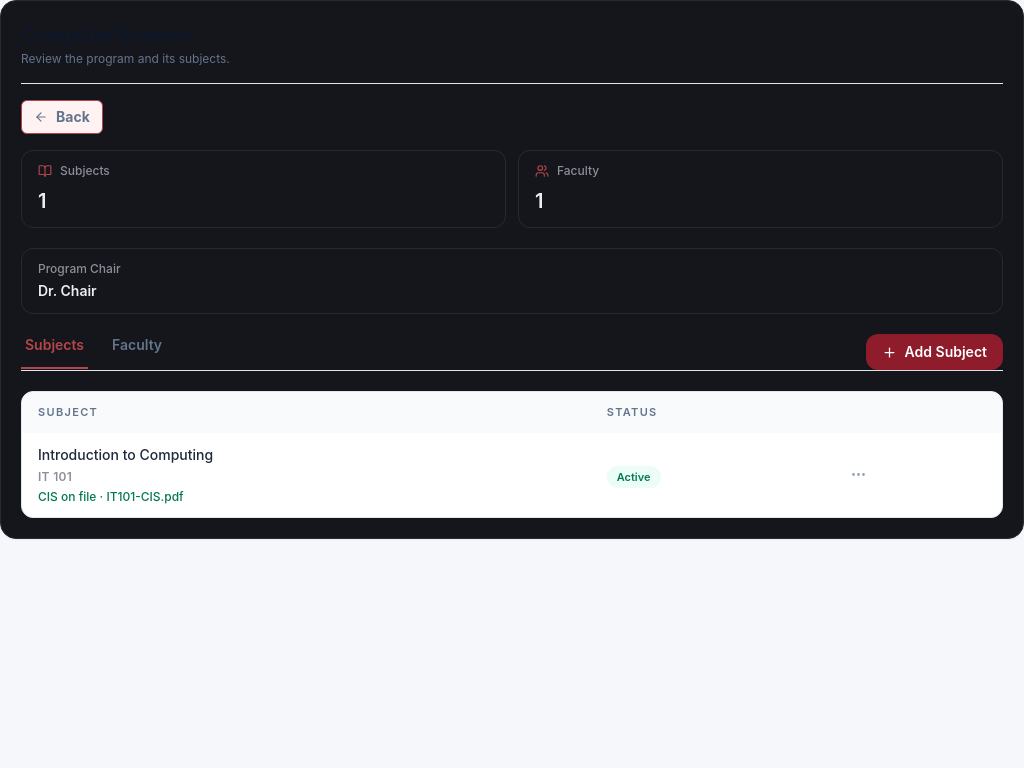
Test case: Department Admin can click an XLSX CIS filename to preview its original worksheet
Click the button named "More actions". click: (858, 474)
box: [842,458,874,490]
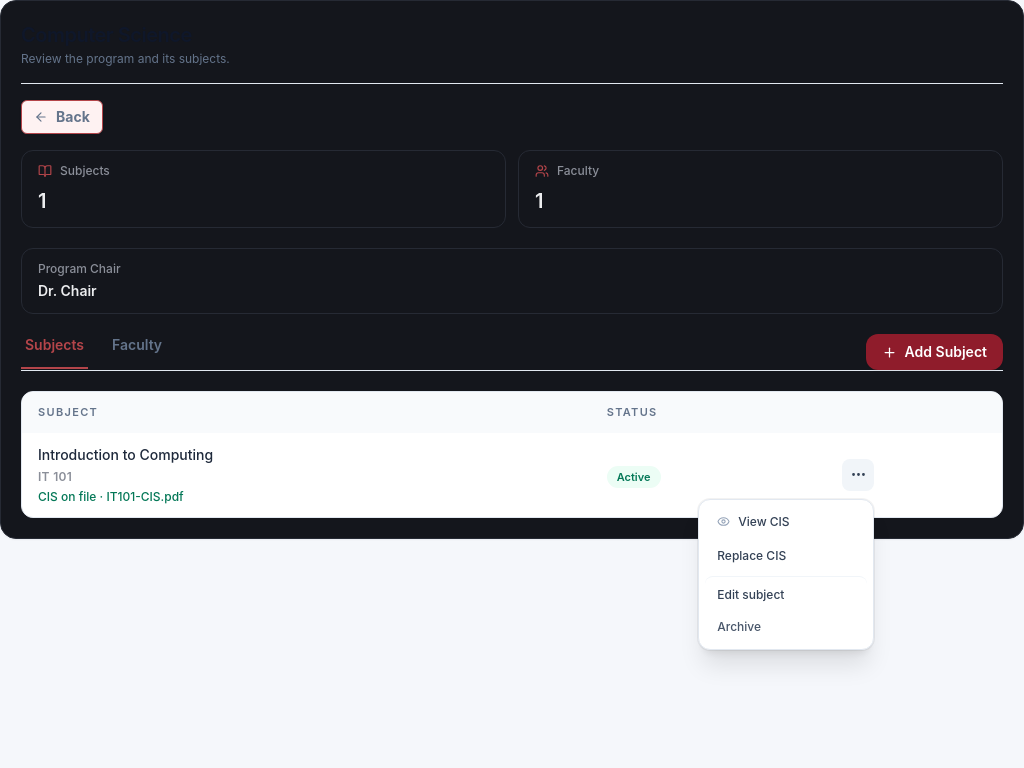
Click the menu item "View CIS". click: (786, 522)
box: [705,506,867,538]
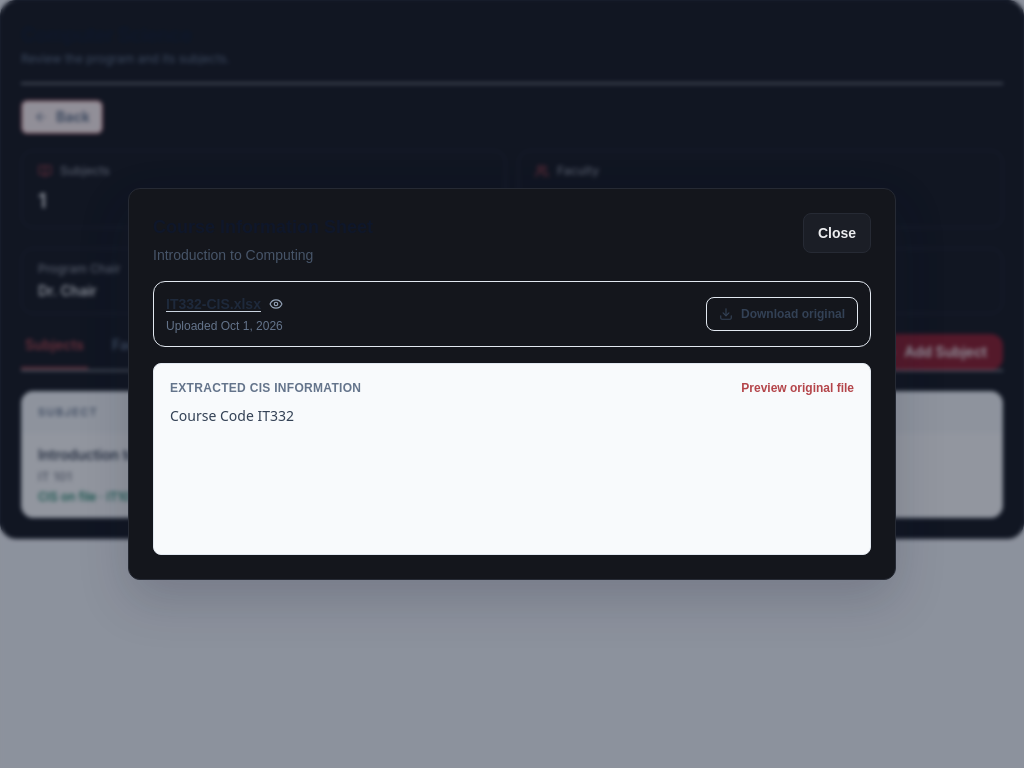
Click the button "IT332-CIS.xlsx". click: (224, 304)
box: [166,294,283,314]
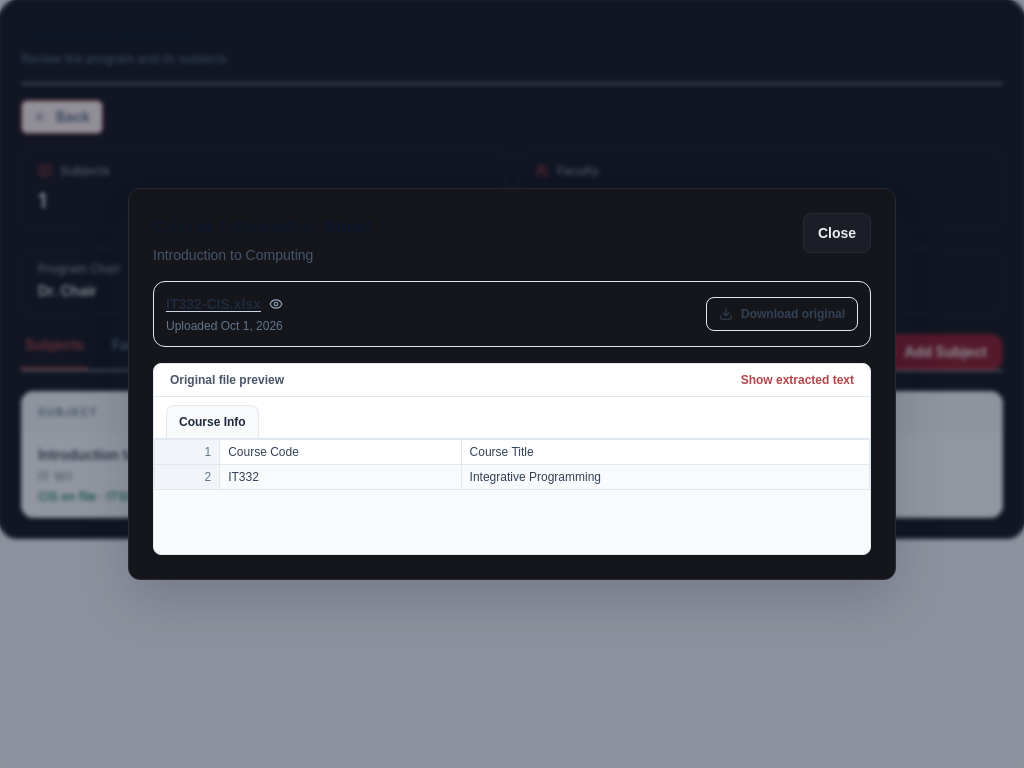
Expected: the text "Integrative Programming" is shown, [461,464,870,490]
Expected: the button "Course Info" is shown, [166,405,259,438]
Expected: the text "Original file preview" is shown, [170,372,284,388]
